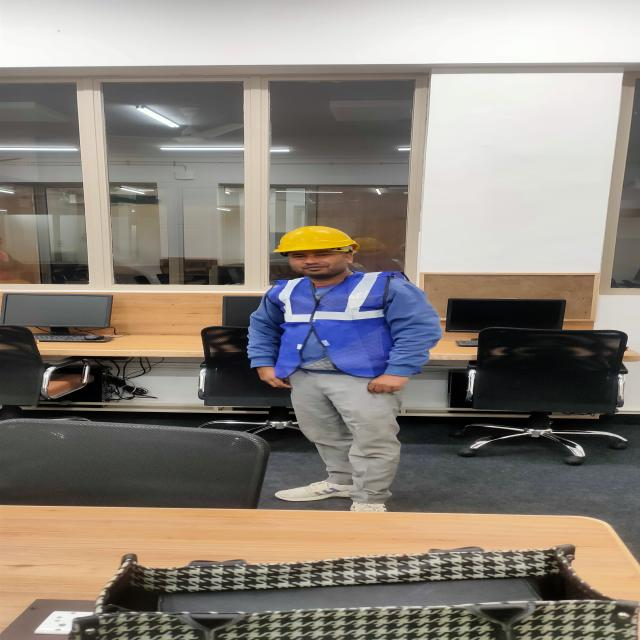safe: (239, 226, 440, 508)
